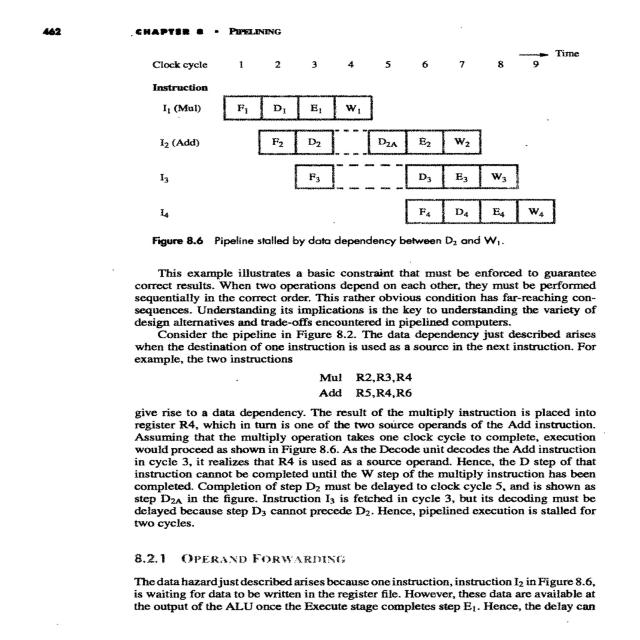diagram: (117, 56, 640, 251)
